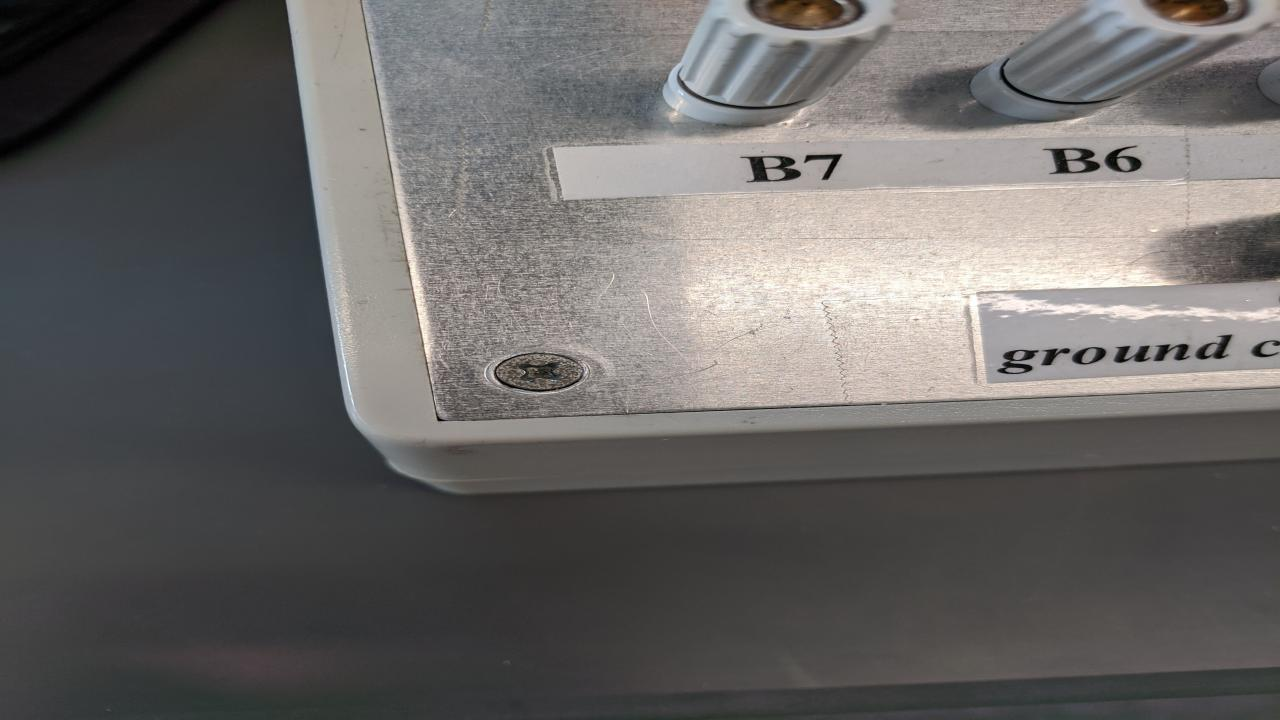CRS: (492, 351, 586, 392)
